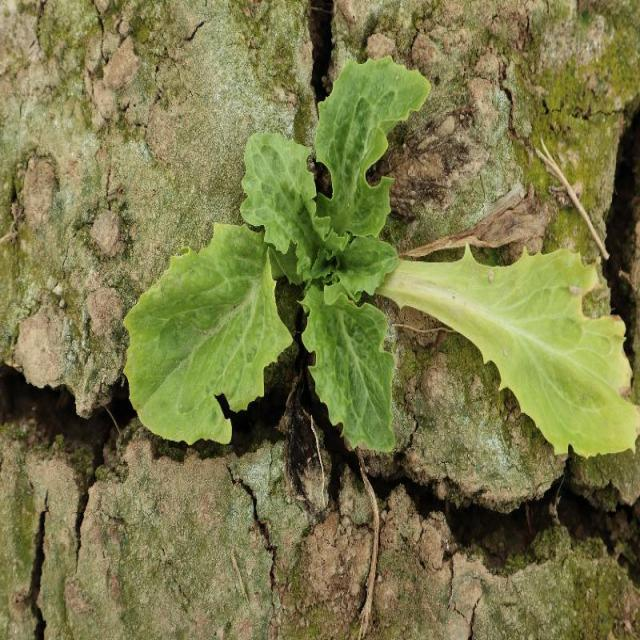crop: (120, 52, 640, 461)
